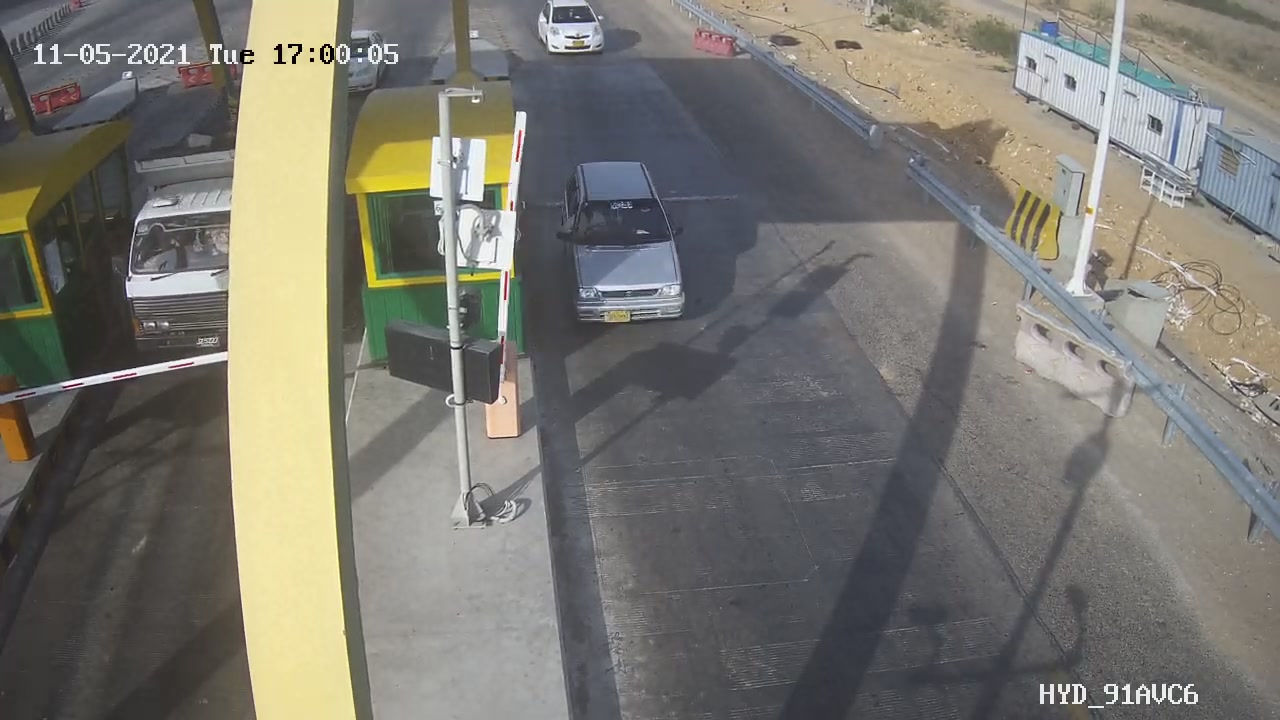F1: (544, 148, 711, 346)
